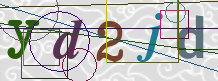2: (94, 16, 127, 65)
d: (174, 11, 208, 63), (50, 16, 86, 62)
j: (134, 10, 167, 67)
y: (3, 17, 43, 61)
